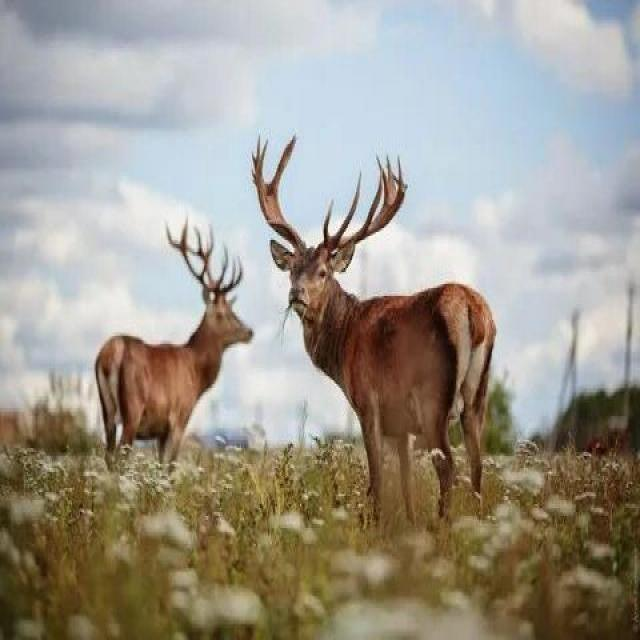deer: (85, 210, 263, 475)
